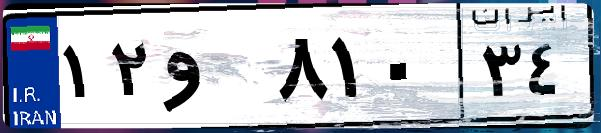0: (385, 28, 445, 110)
1: (330, 28, 385, 110), (57, 26, 110, 100)
2: (110, 28, 158, 98)
3: (475, 38, 525, 113)
4: (525, 38, 570, 115)
8: (270, 28, 330, 110)
و: (158, 20, 270, 120)
